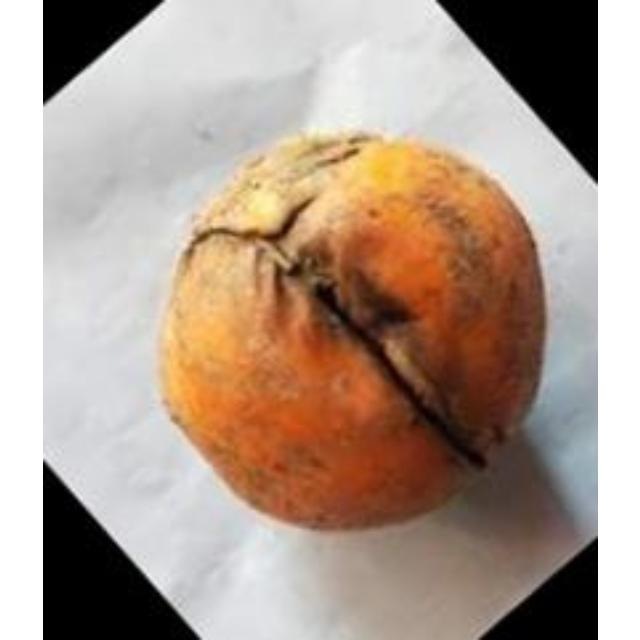damaged: (151, 130, 547, 534)
